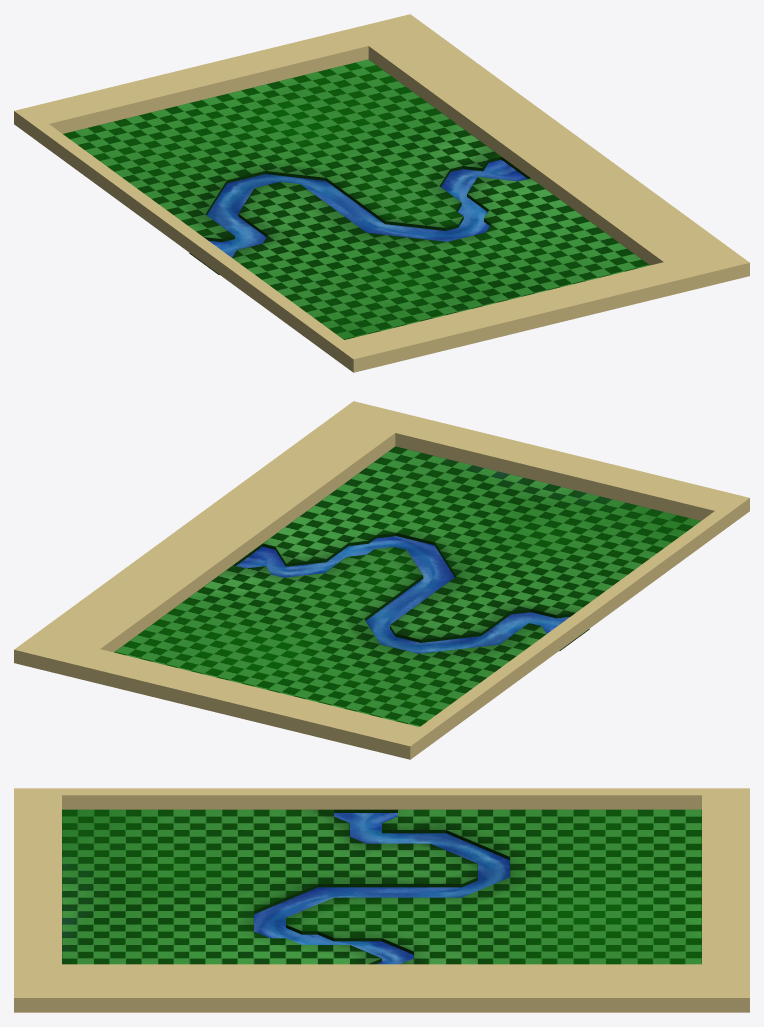
Rendered from playingfield.fbx.
The picture shows the model from 3 angles, top to bottom: view 1: azimuth 30°, elevation 25°; view 2: azimuth 150°, elevation 25°; view 3: azimuth 270°, elevation 25°; orthographic projection. The views are drawn at different scales.
Parts seen in each view (by area): view 1: Plane002, Box010; view 2: Plane002, Box010; view 3: Plane002, Box010.
Boxes of the visible parts, x1,y1,x2,y2 form: Plane002: [14, 14, 749, 372]; Box010: [207, 159, 527, 257]; Plane002: [14, 401, 749, 759]; Box010: [236, 536, 569, 653]; Plane002: [14, 788, 749, 1012]; Box010: [254, 813, 509, 964].
Size of the model in its own units: 6200 by 400 by 9200.
